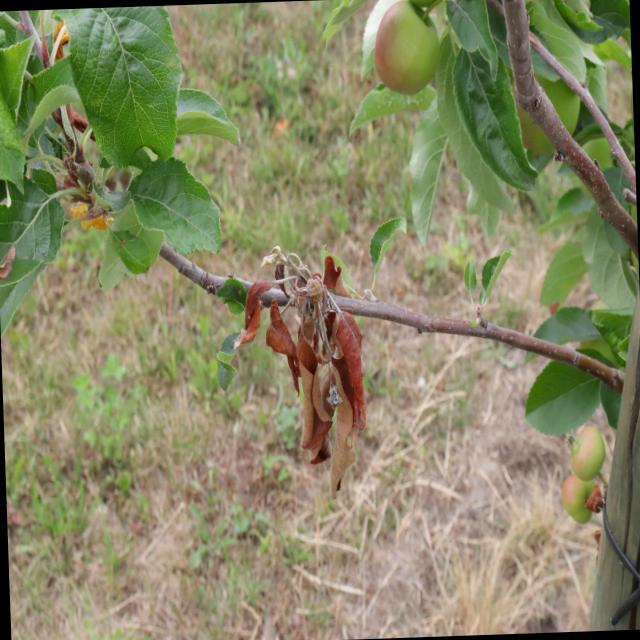-FireBlight-: (247, 249, 376, 500)
